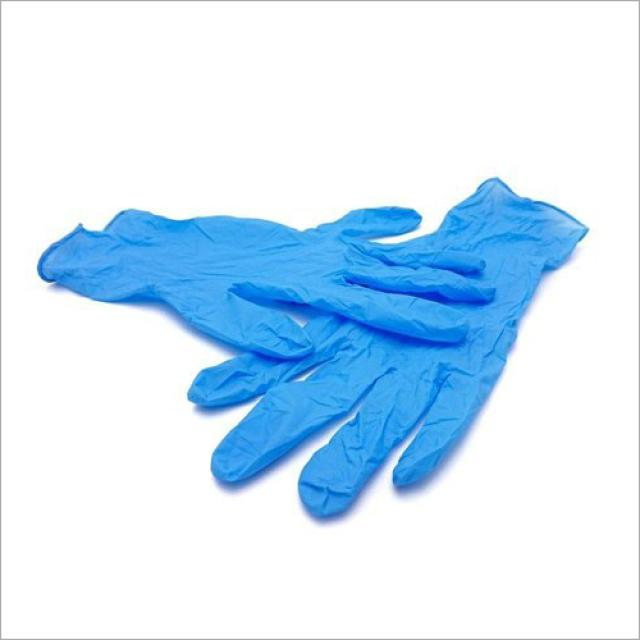Gloves: (181, 175, 606, 527), (40, 188, 498, 370)
